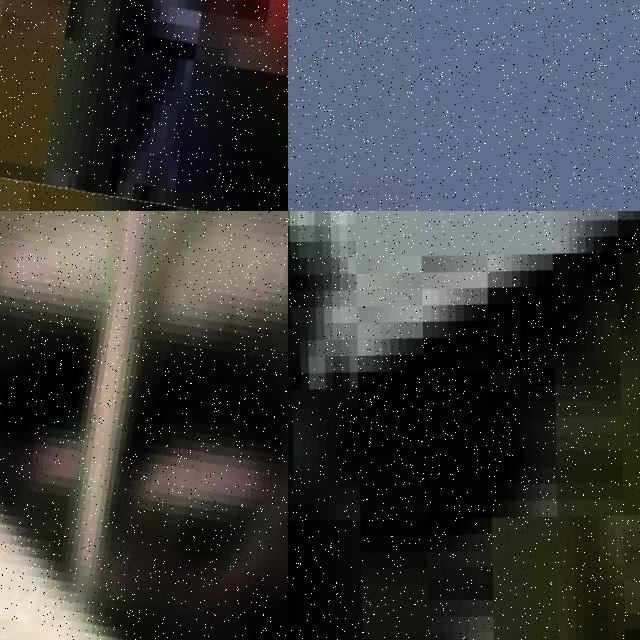drone: (0, 211, 288, 640), (0, 0, 288, 211)
